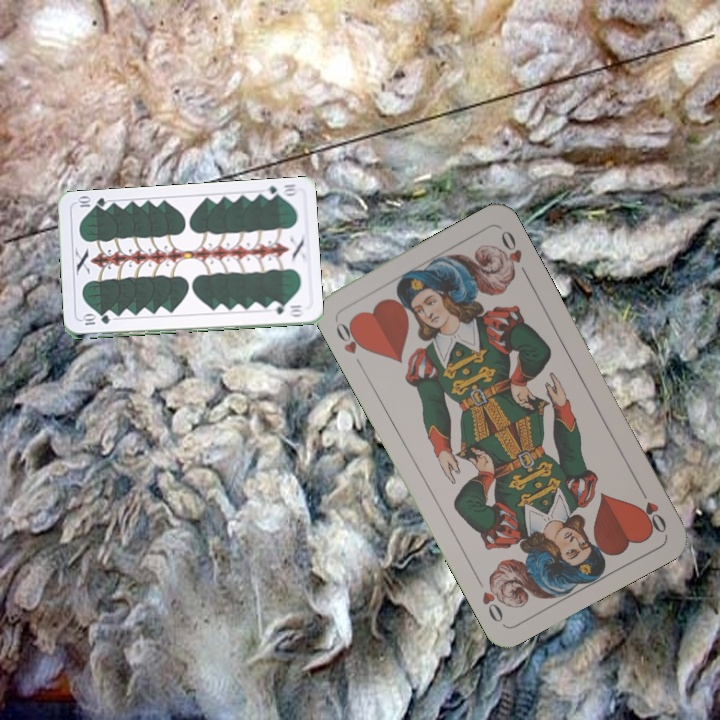G10: (259, 180, 298, 201), (78, 313, 112, 328)
HO: (633, 481, 669, 536), (331, 316, 370, 357)
